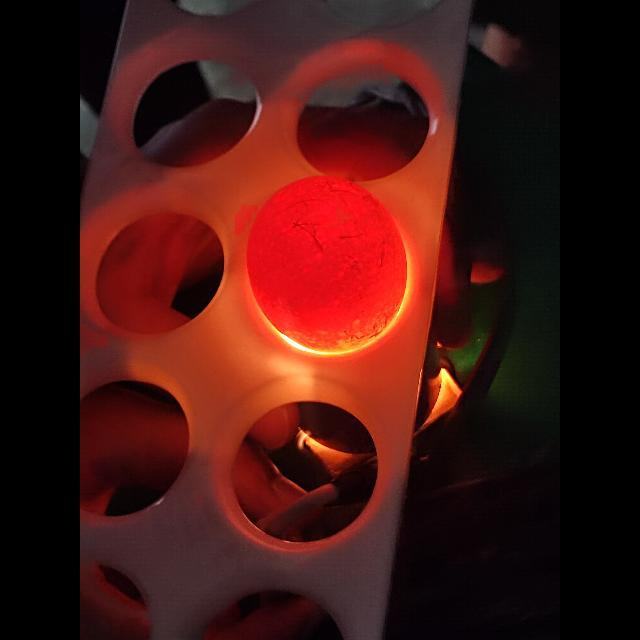Infertile: (247, 180, 413, 346)
